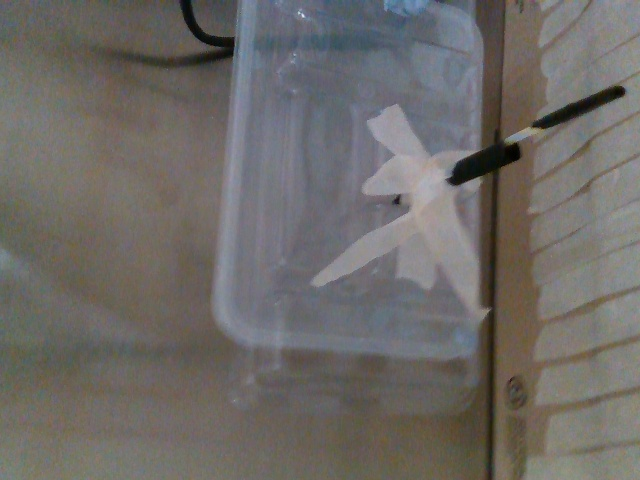test_strip: (503, 85, 624, 147)
